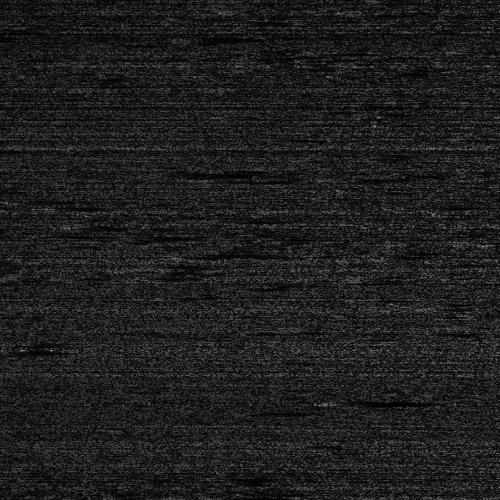rock: (311, 397, 374, 404), (0, 348, 27, 353)
shadow: (343, 397, 432, 404), (1, 348, 78, 353)
